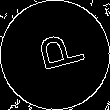P_W: (26, 30, 84, 80)
